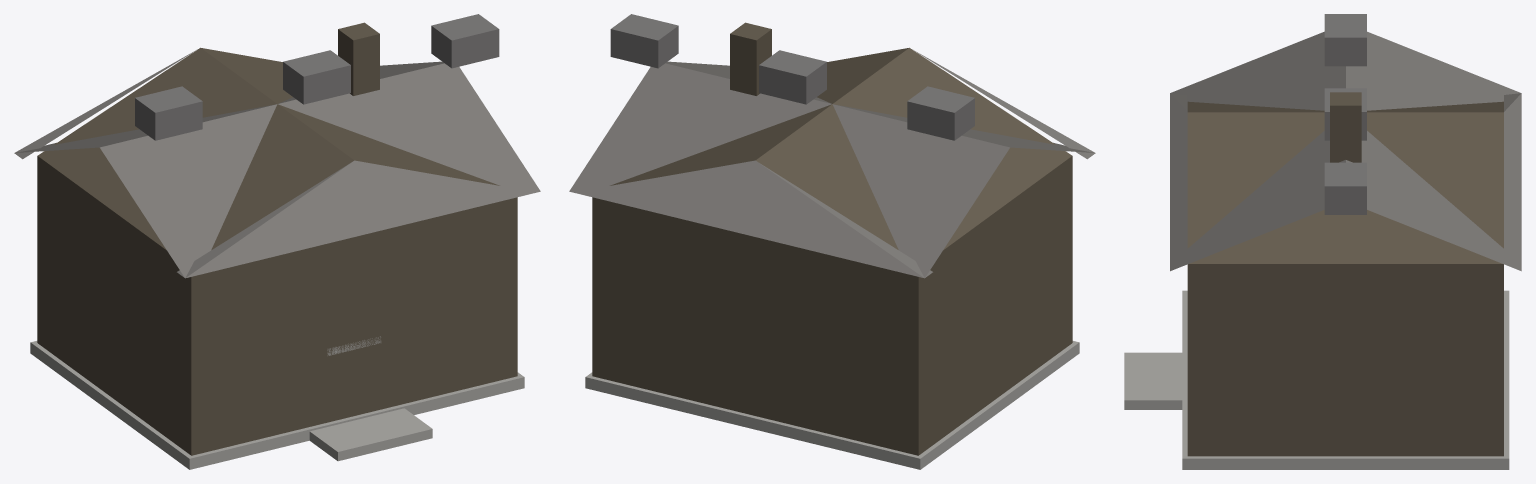
File: b_house2.glb
The picture shows the model from 3 angles, left to right: view 1: azimuth 30°, elevation 25°; view 2: azimuth 150°, elevation 25°; view 3: azimuth 270°, elevation 25°; orthographic projection. The views are drawn at different scales.
Parts seen in each view (by area): view 1: Building; view 2: Building; view 3: Building.
Boxes of the visible parts, bbox=[...] form: Building: bbox=[14, 14, 540, 469]; Building: bbox=[569, 14, 1095, 469]; Building: bbox=[1124, 14, 1521, 469].
Size of the model in its own units: 13.13 by 10.3 by 11.3.
Materials: 6 (2 with a texture image).
